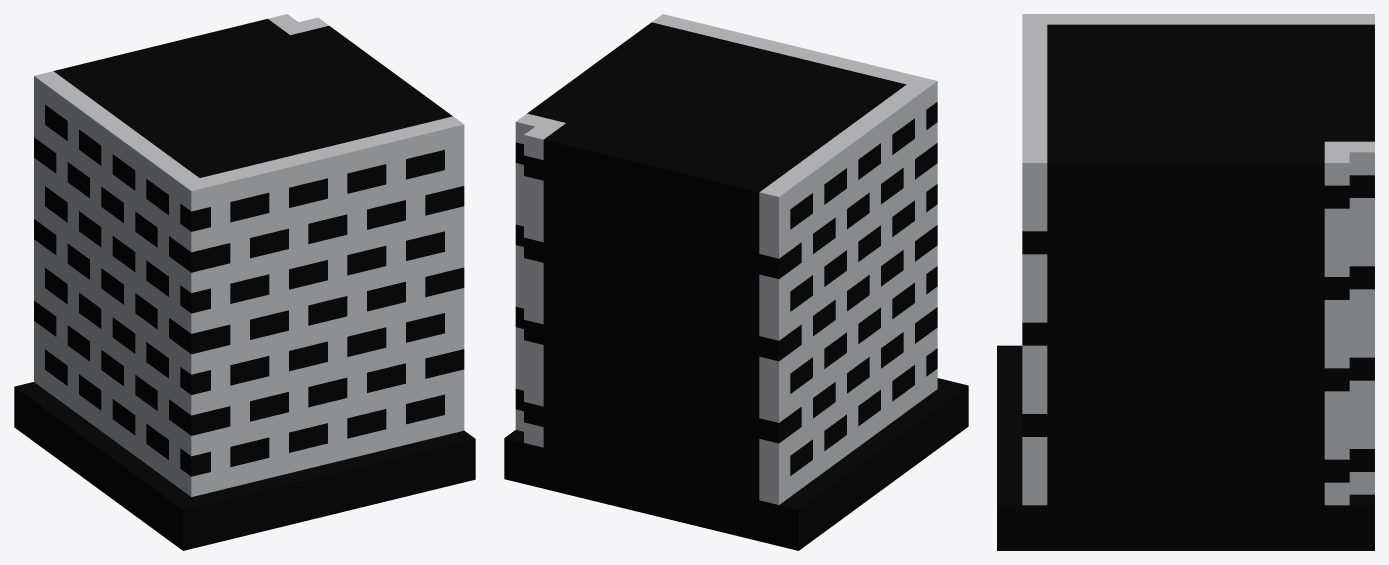
File: dungeon_d_b_inner_wall_corner_a.obj
3 renders of one model, left to right at view 1: azimuth 30°, elevation 25°; view 2: azimuth 150°, elevation 25°; view 3: azimuth 270°, elevation 25°, orthographic. The views are drawn at different scales.
Size of the model in its own units: 1.5 by 1.7 by 1.5.
1 material, 1 textured.
